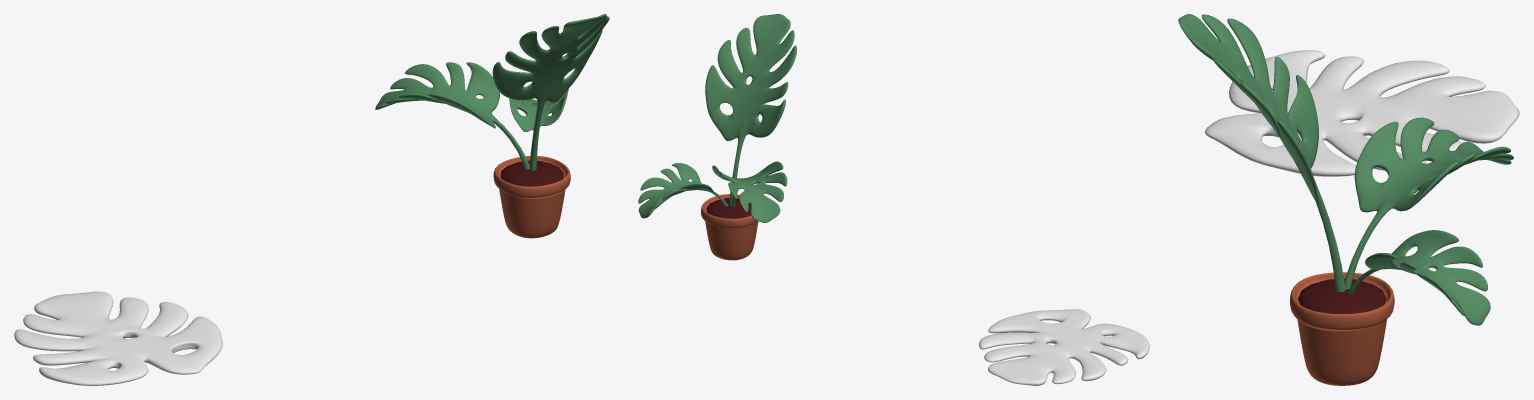
File: PottedPlane (1).fbx
The picture shows the model from 3 angles, left to right: view 1: azimuth 30°, elevation 25°; view 2: azimuth 150°, elevation 25°; view 3: azimuth 270°, elevation 25°; orthographic projection. The views are drawn at different scales.
Visible parts, largest first — view 1: Plane.001, Plane, Plane.002, Plane.004, Sphere, Plane.003; view 2: Plane.001, Plane, Plane.002, Plane.004, Plane.003, Sphere; view 3: Plane.001, Plane, Plane.002, Plane.004, Plane.003, Sphere.
Part boxes in pixels (x1=…): Plane.001: x1=14, y1=291, x2=222, y2=385; Plane: x1=492, y1=14, x2=609, y2=170; Plane.002: x1=375, y1=62, x2=529, y2=169; Plane.004: x1=493, y1=156, x2=570, y2=238; Sphere: x1=500, y1=160, x2=563, y2=186; Plane.003: x1=509, y1=89, x2=568, y2=131; Plane.001: x1=979, y1=309, x2=1149, y2=385; Plane: x1=705, y1=14, x2=796, y2=204; Plane.002: x1=712, y1=161, x2=787, y2=222; Plane.004: x1=701, y1=194, x2=758, y2=260; Plane.003: x1=638, y1=163, x2=728, y2=218; Sphere: x1=706, y1=198, x2=750, y2=218; Plane.001: x1=1205, y1=50, x2=1519, y2=176; Plane: x1=1178, y1=14, x2=1345, y2=291; Plane.002: x1=1344, y1=117, x2=1513, y2=289; Plane.004: x1=1289, y1=272, x2=1394, y2=385; Plane.003: x1=1347, y1=230, x2=1490, y2=325; Sphere: x1=1298, y1=278, x2=1386, y2=313.
Bounding box in the file's own units: 1189 × 534 × 440.
